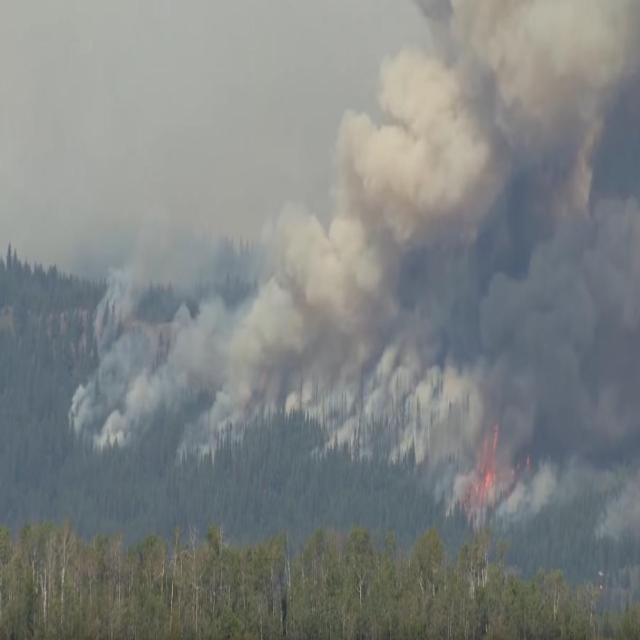Fire: (459, 420, 527, 506)
Smoke: (67, 3, 640, 446)
